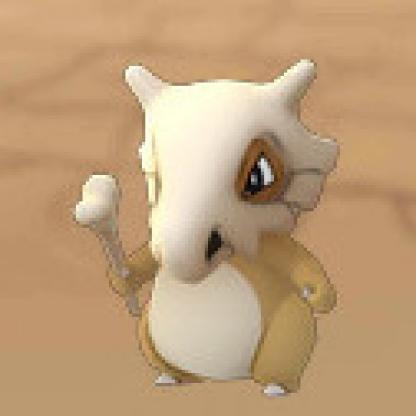Cubone: (79, 55, 346, 395)
